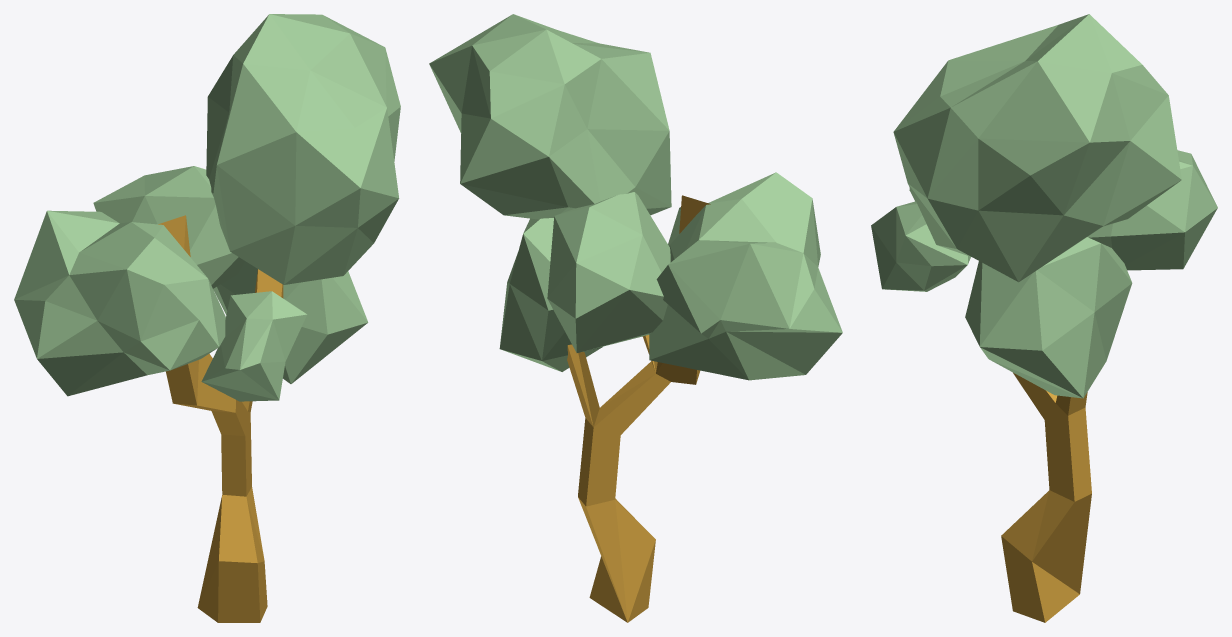
Rendered from Tree.fbx.
3 views of the same model, side by side, from view 1: azimuth 30°, elevation 25°; view 2: azimuth 150°, elevation 25°; view 3: azimuth 270°, elevation 25° (orthographic). The views are drawn at different scales.
Visible parts, largest first — view 1: Line004; view 2: Line004; view 3: Line004.
Boxes of the visible parts, x1,y1,x2,y2 form: Line004: (14, 14, 400, 622); Line004: (429, 14, 842, 622); Line004: (871, 14, 1217, 622).
Bounding box in the file's own units: 942 × 1359 × 689.
